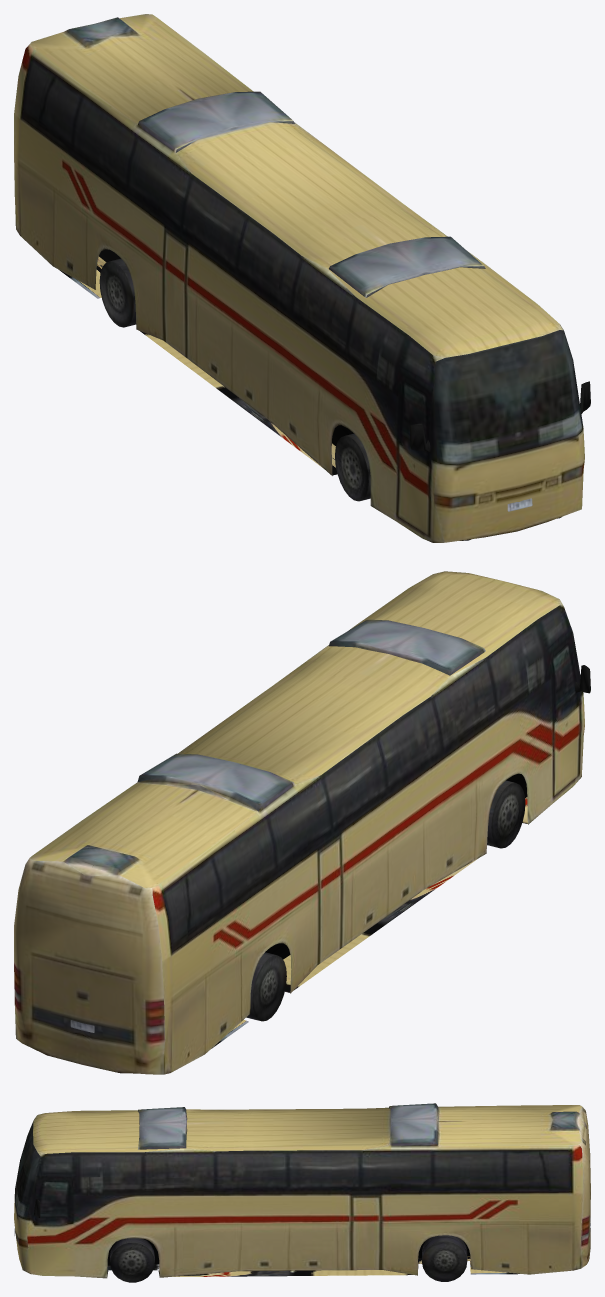
File: bus3.obj
3 renders of one model, top to bottom at view 1: azimuth 30°, elevation 25°; view 2: azimuth 150°, elevation 25°; view 3: azimuth 270°, elevation 25°, orthographic. The views are drawn at different scales.
Parts seen in each view (by area): view 1: lwpg018; view 2: lwpg018; view 3: lwpg018.
Part boxes in pixels (x1,y1,x2,y2): lwpg018: (14, 14, 590, 542); lwpg018: (14, 571, 590, 1074); lwpg018: (14, 1103, 590, 1282).
Size of the model in its own units: 3.01 by 3.38 by 12.67.
Materials: 1 (1 with a texture image).
